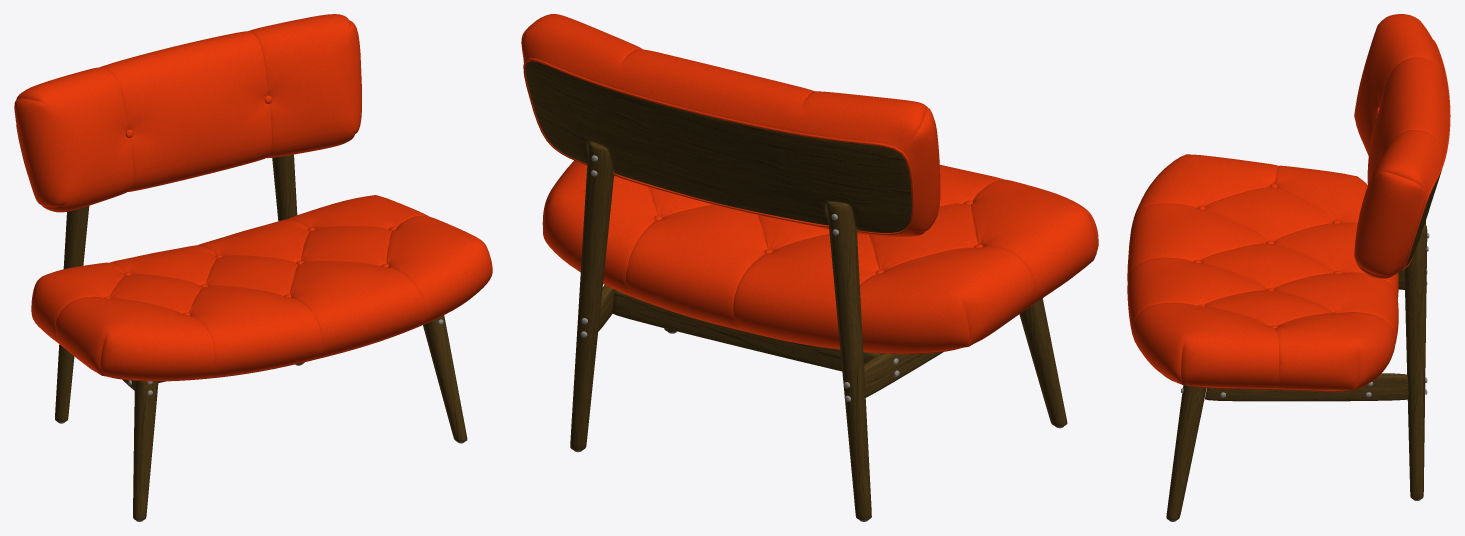
The model's file is SheenChair.min.glb.
The picture shows the model from 3 angles, left to right: view 1: azimuth 30°, elevation 25°; view 2: azimuth 150°, elevation 25°; view 3: azimuth 270°, elevation 25°; orthographic projection. The views are drawn at different scales.
Visible parts, largest first — view 1: SheenChair_fabric, SheenChair_wood; view 2: SheenChair_fabric, SheenChair_wood; view 3: SheenChair_fabric, SheenChair_wood.
Boxes of the visible parts, x1,y1,x2,y2 form: SheenChair_fabric: [14, 14, 492, 381]; SheenChair_wood: [55, 154, 467, 520]; SheenChair_fabric: [521, 14, 1098, 354]; SheenChair_wood: [525, 61, 1067, 520]; SheenChair_fabric: [1127, 14, 1450, 391]; SheenChair_wood: [1166, 170, 1441, 520].
Bounding box in the file's own units: 0.8266 × 0.6862 × 0.5703.
4 materials, 3 textured.
